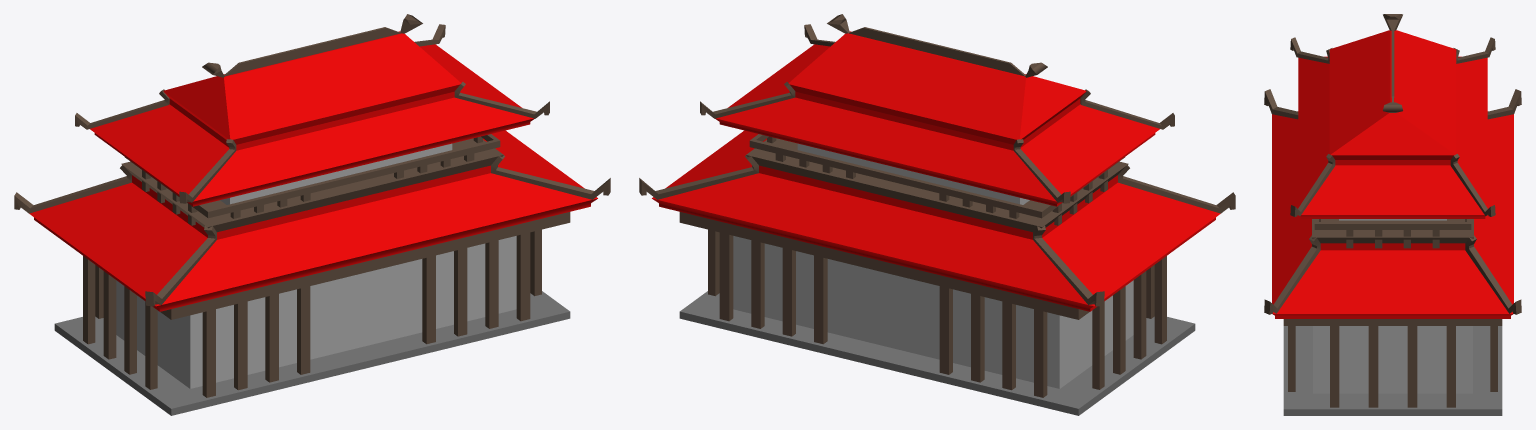
The model's file is Japanese_house_07.fbx.
3 renders of one model, left to right at view 1: azimuth 30°, elevation 25°; view 2: azimuth 150°, elevation 25°; view 3: azimuth 270°, elevation 25°, orthographic. The views are drawn at different scales.
Parts seen in each view (by area): view 1: Japanese_house_07; view 2: Japanese_house_07; view 3: Japanese_house_07.
Boxes of the visible parts, x1,y1,x2,y2 form: Japanese_house_07: (14,14,610,415); Japanese_house_07: (639,14,1235,415); Japanese_house_07: (1264,14,1521,415).
Bounding box in the file's own units: 154 × 90.11 × 78.65.
